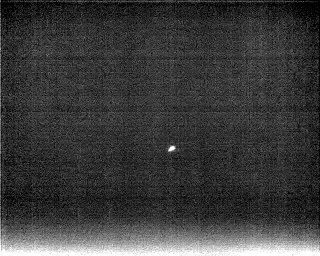BIRD: (166, 142, 178, 156)
